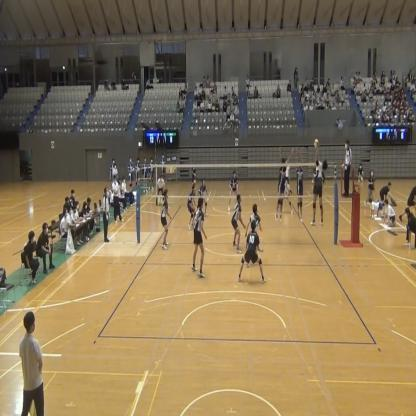spike: (310, 135, 328, 231)
